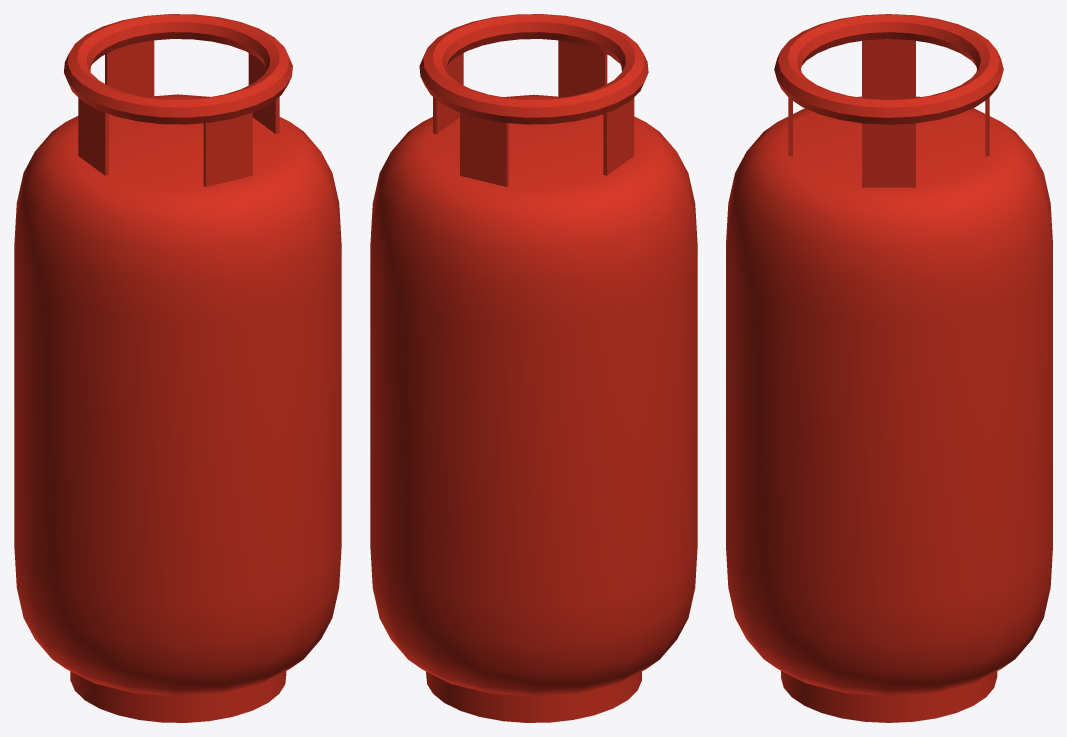
The model's file is 12 Gas_Cylinder_2.FBX.
3 renders of one model, left to right at view 1: azimuth 30°, elevation 25°; view 2: azimuth 150°, elevation 25°; view 3: azimuth 270°, elevation 25°, orthographic.
Visible parts, largest first — view 1: Gas_Cylinder_6; view 2: Gas_Cylinder_6; view 3: Gas_Cylinder_6.
Boxes of the visible parts, x1,y1,x2,y2 form: Gas_Cylinder_6: (14,14,341,722); Gas_Cylinder_6: (370,14,697,722); Gas_Cylinder_6: (726,14,1052,722).
Bounding box in the file's own units: 300 × 618 × 295.
